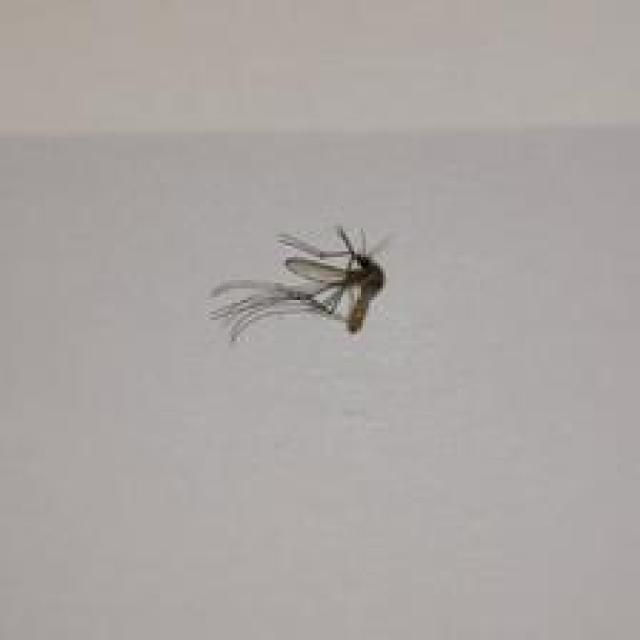Culex: (209, 224, 394, 344)
